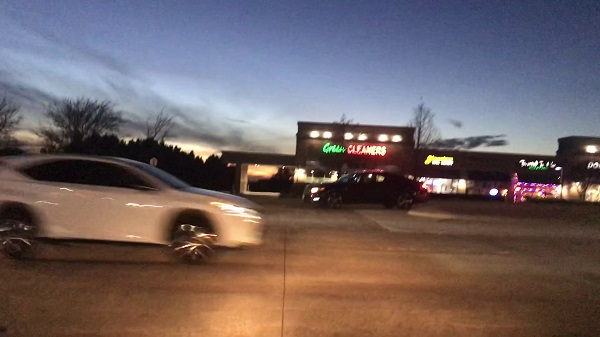car: (2, 151, 262, 263), (304, 168, 430, 213)
